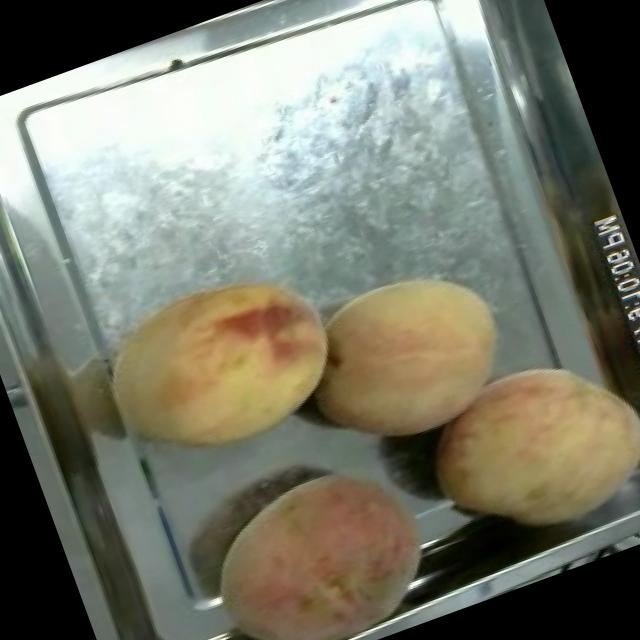Fruit: (82, 238, 367, 492), (274, 242, 536, 479), (401, 321, 640, 571), (177, 435, 457, 640)
